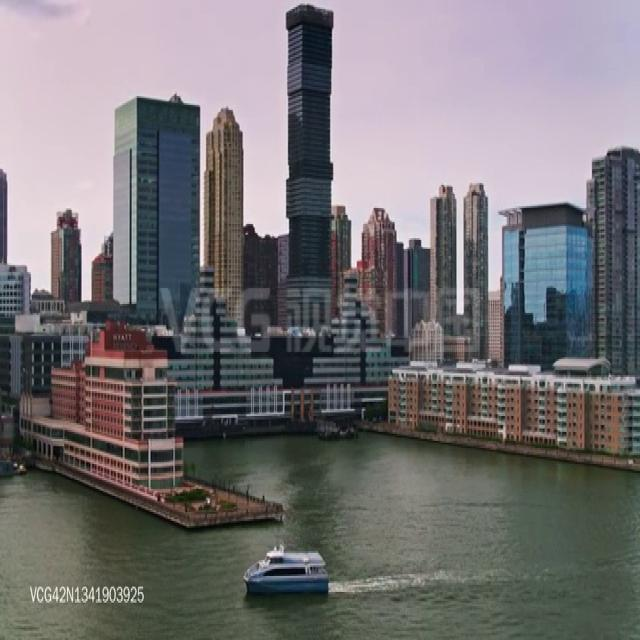houseboat: (239, 538, 332, 598)
